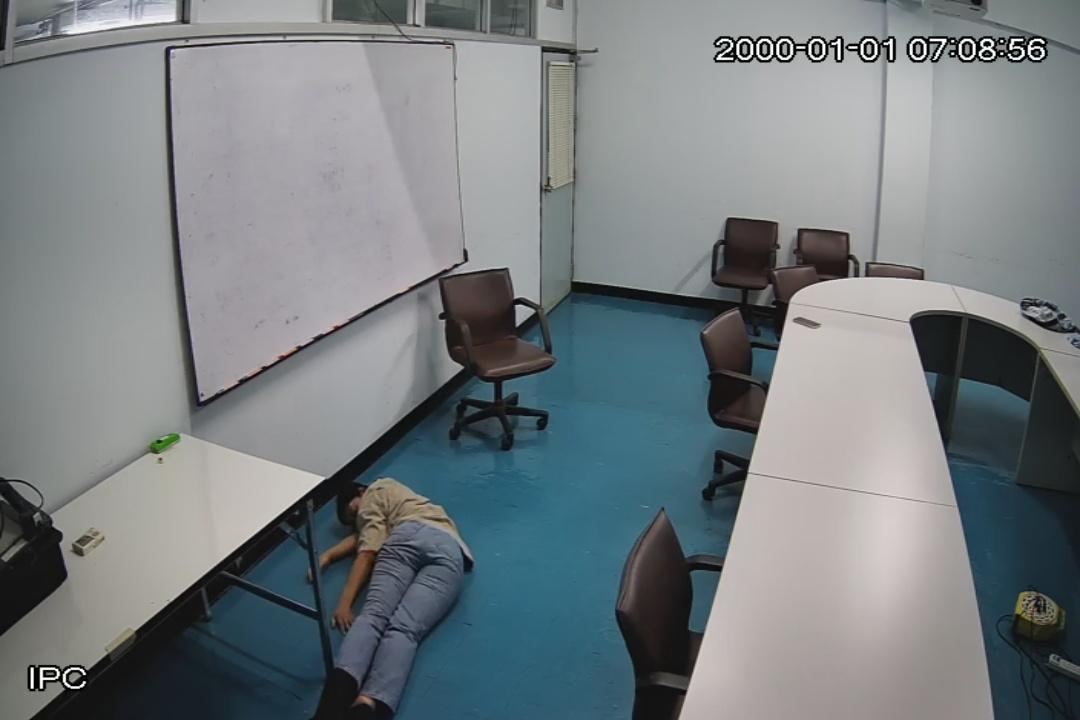fall: (302, 474, 486, 720)
